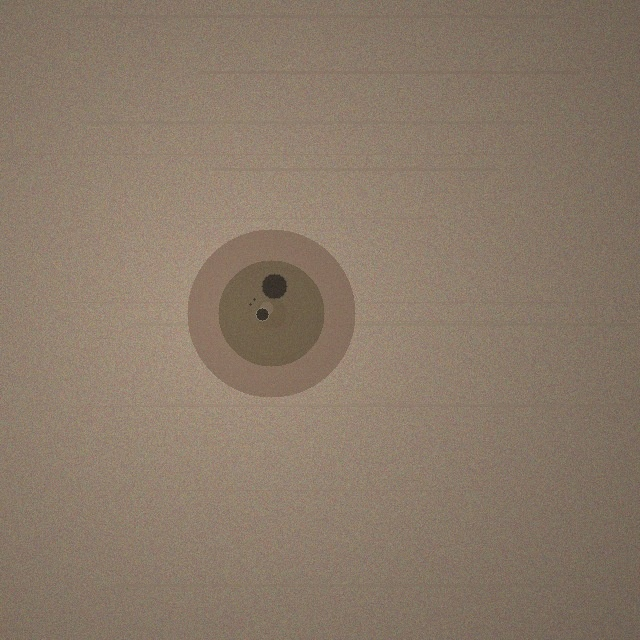shrinkage: (187, 229, 355, 397)
